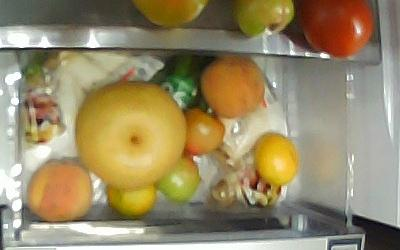peach: (26, 159, 93, 223), (200, 54, 264, 117)
pear: (76, 81, 185, 188)
tangerine: (254, 132, 300, 186), (107, 183, 157, 218)
tomato: (184, 107, 225, 155), (157, 157, 200, 201)
